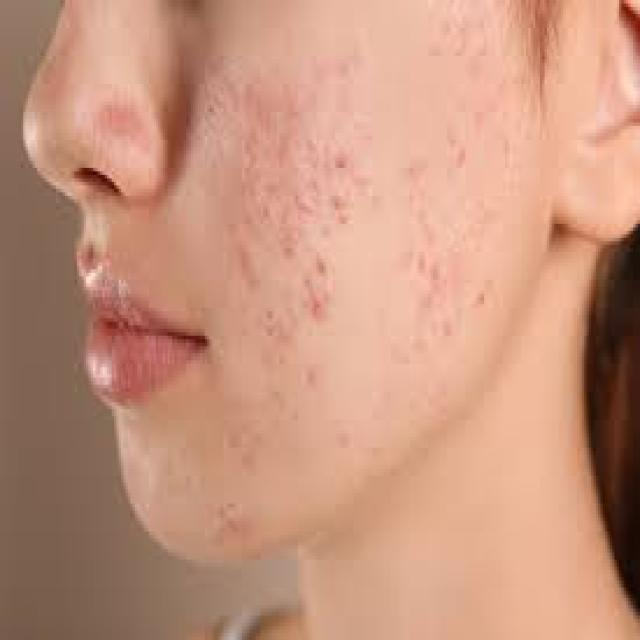Acne: (307, 286, 328, 325), (332, 146, 352, 177)
